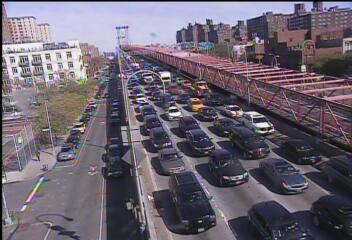neg: (34, 170, 53, 194), (80, 164, 97, 186)
pos: (32, 149, 42, 163)
